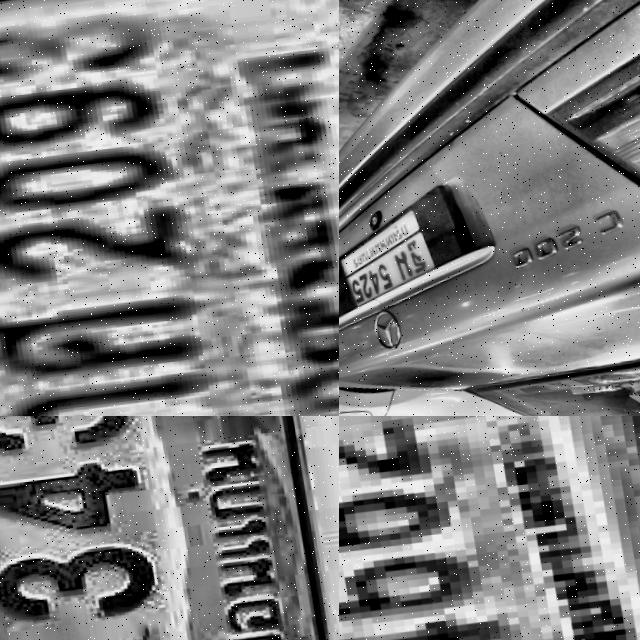license-plate: (0, 0, 339, 416), (0, 416, 339, 640), (339, 416, 640, 640), (421, 302, 547, 374)
